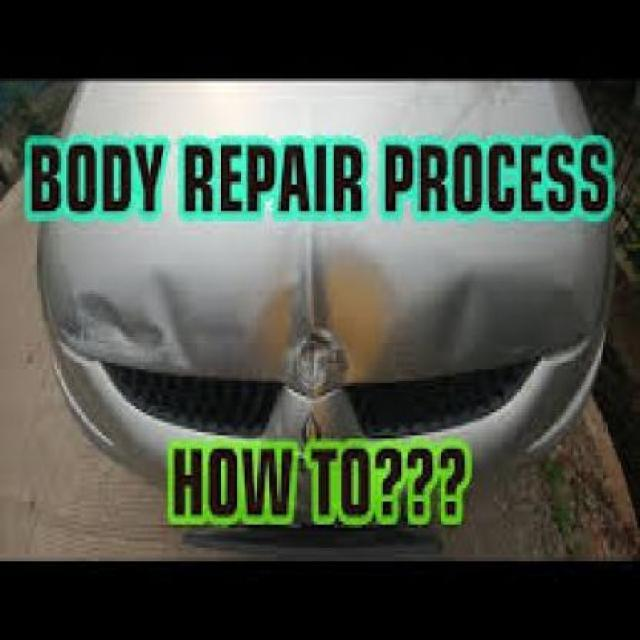damaged-hood: (49, 234, 596, 376)
